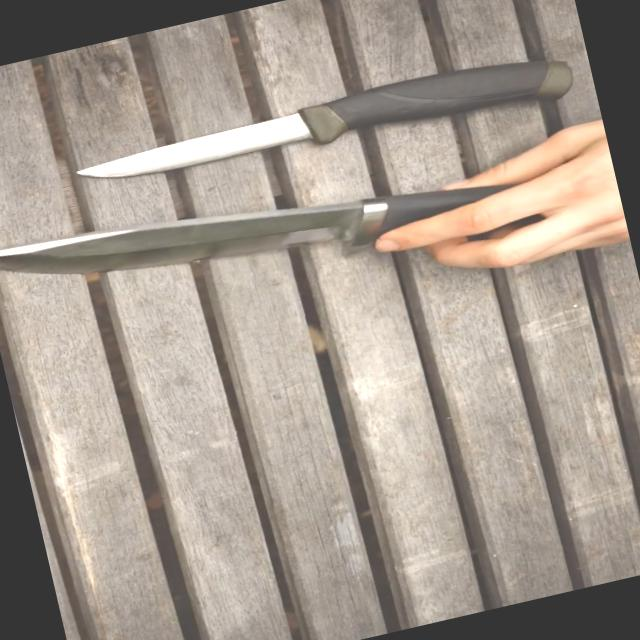knife: (0, 140, 482, 383), (39, 77, 368, 212)
